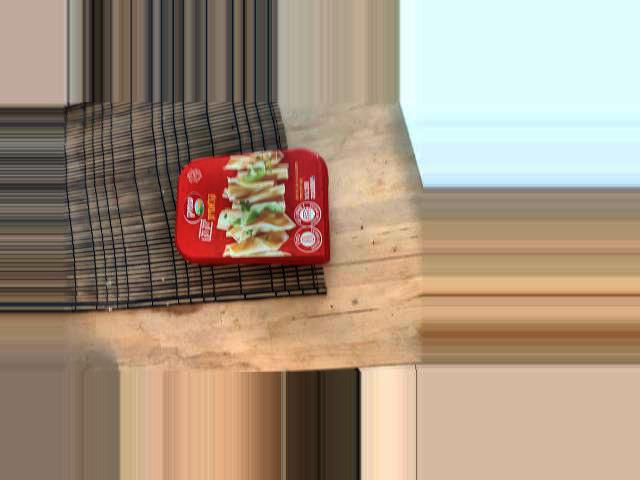cheese: (164, 141, 332, 246)
